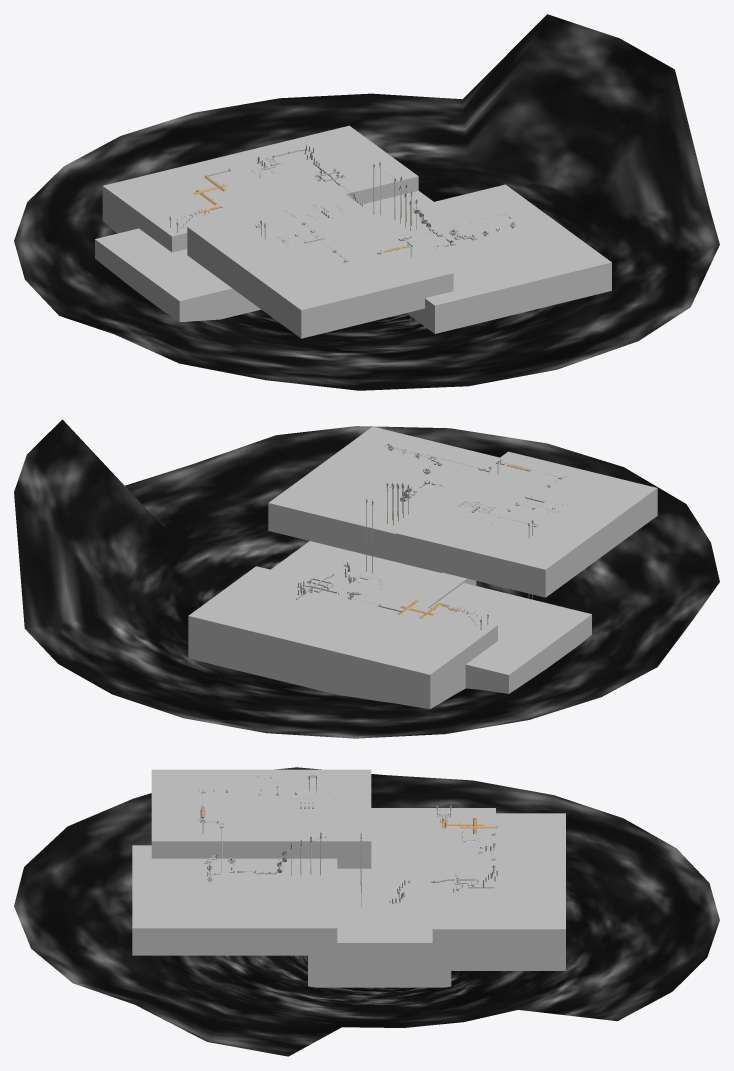
Rendered from Level12.FBX.
3 views of the same model, one above another, from view 1: azimuth 30°, elevation 25°; view 2: azimuth 150°, elevation 25°; view 3: azimuth 270°, elevation 25° (orthographic). The views are drawn at different scales.
Parts seen in each view (by area): view 1: SkyLayer, Quader01, Quader02, Quader04, Quader05, Quader03; view 2: SkyLayer, Quader04, Quader01, Quader02, Quader05, Quader03; view 3: SkyLayer, Quader04, Quader02, Quader01, Quader03, Quader05.
Part boxes in pixels (x1=…): SkyLayer: x1=14, y1=14, x2=719, y2=390; Quader01: x1=187, y1=189, x2=453, y2=338; Quader02: x1=376, y1=184, x2=611, y2=333; Quader04: x1=102, y1=125, x2=418, y2=252; Quader05: x1=95, y1=228, x2=260, y2=321; Quader03: x1=361, y1=190, x2=433, y2=215; SkyLayer: x1=14, y1=419, x2=719, y2=738; Quader04: x1=188, y1=566, x2=497, y2=709; Quader01: x1=396, y1=451, x2=657, y2=597; Quader02: x1=268, y1=426, x2=499, y2=572; Quader05: x1=429, y1=583, x2=591, y2=693; Quader03: x1=271, y1=541, x2=476, y2=608; SkyLayer: x1=14, y1=767, x2=719, y2=1056; Quader04: x1=432, y1=813, x2=565, y2=970; Quader02: x1=132, y1=845, x2=337, y2=955; Quader01: x1=151, y1=769, x2=371, y2=868; Quader03: x1=308, y1=868, x2=451, y2=987; Quader05: x1=371, y1=808, x2=495, y2=867.
Size of the model in its own units: 2715 by 778 by 2823.
